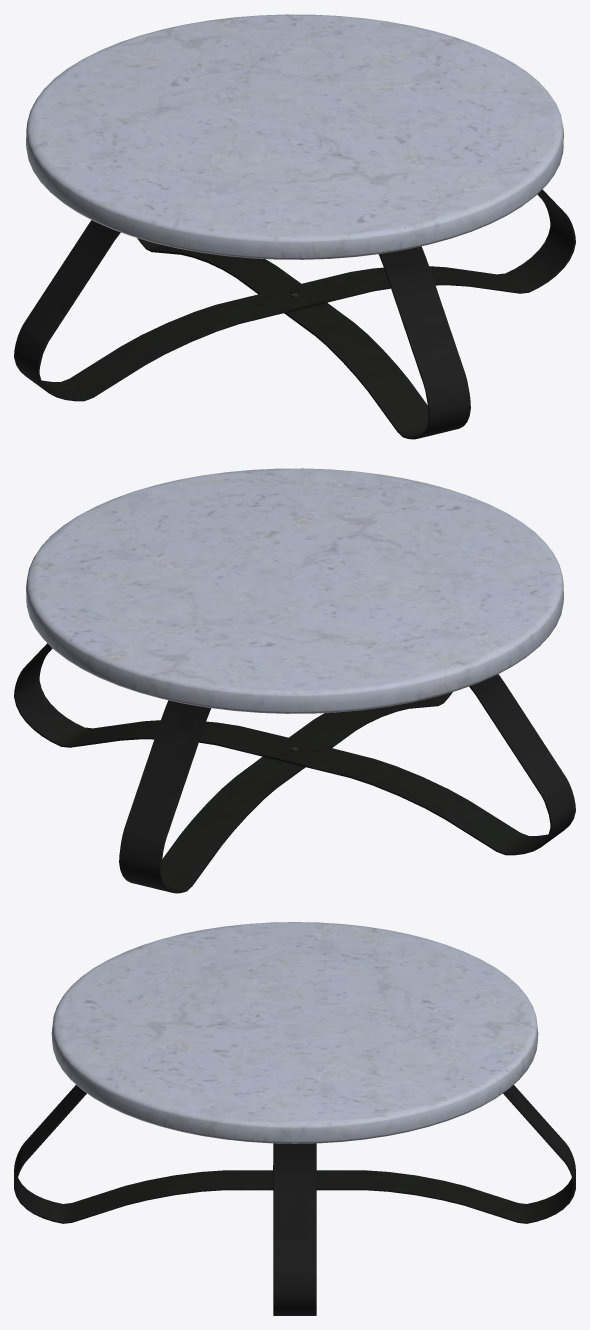
File: coffee_table_round_01.glb
3 views of the same model, one above another, from view 1: azimuth 30°, elevation 25°; view 2: azimuth 150°, elevation 25°; view 3: azimuth 270°, elevation 25° (orthographic). The views are drawn at different scales.
Visible parts, largest first — view 1: coffee_table_round_01; view 2: coffee_table_round_01; view 3: coffee_table_round_01.
Boxes of the visible parts, x1,y1,x2,y2 form: coffee_table_round_01: (14, 14, 575, 439); coffee_table_round_01: (14, 468, 575, 893); coffee_table_round_01: (14, 922, 575, 1315).
Bounding box in the file's own units: 1.3 × 0.4909 × 1.3.
Materials: 1 (1 with a texture image).
